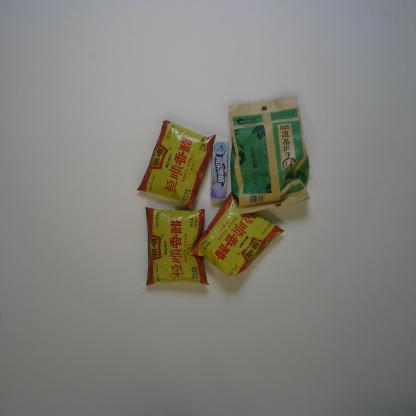Candy: (210, 140, 230, 201)
Dried Food: (225, 94, 313, 218)
Seasoner: (189, 186, 285, 278), (133, 117, 217, 210), (141, 205, 210, 287)
